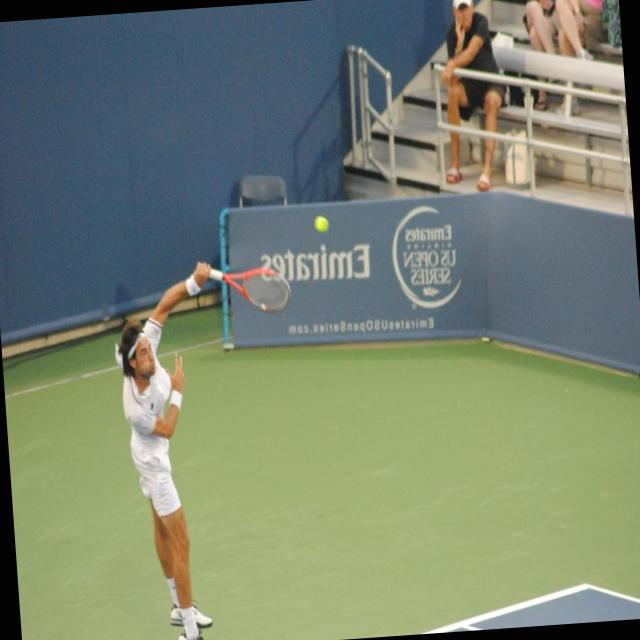Tennis Ball: (314, 212, 331, 232), (314, 217, 329, 230)
